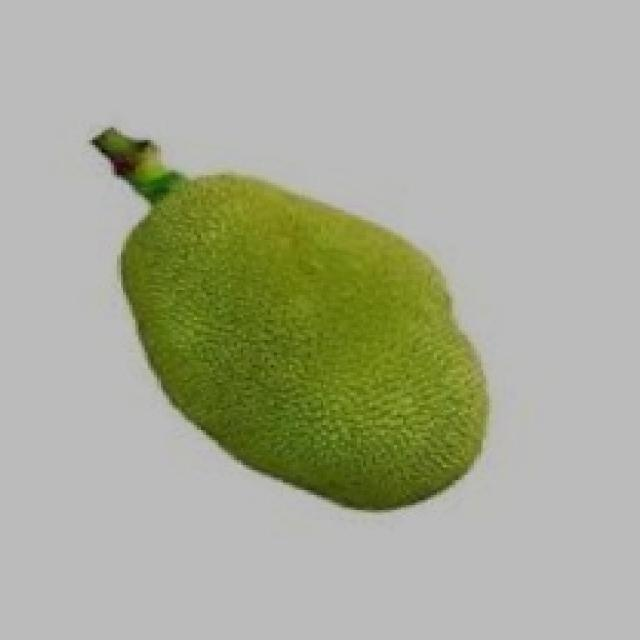Fruit: (105, 150, 517, 540)
